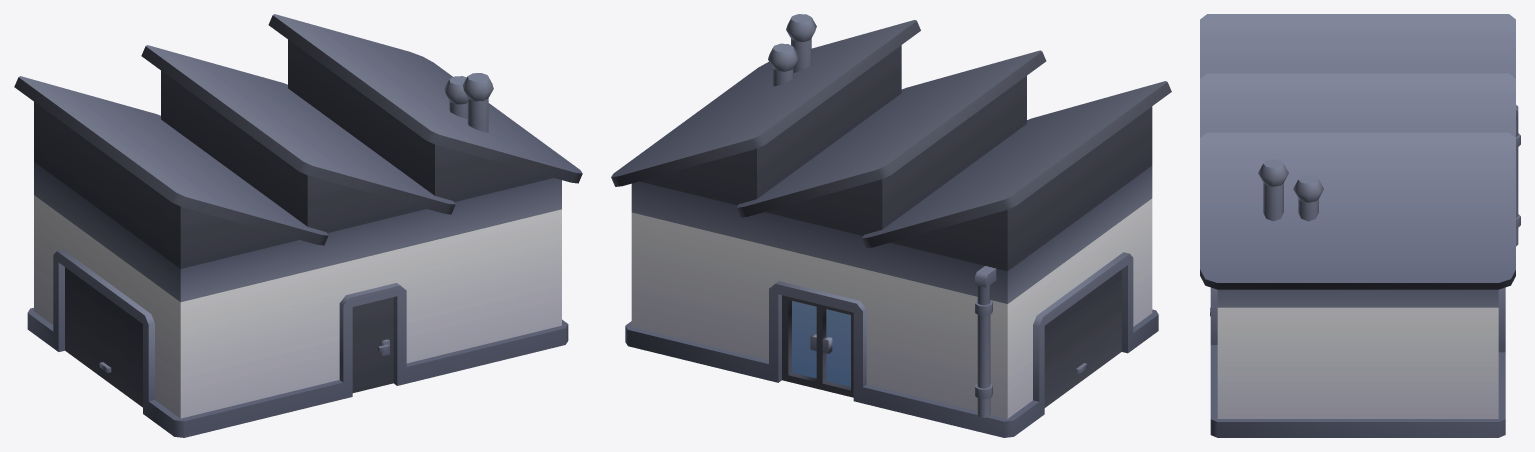
File: building-k.glb
The picture shows the model from 3 angles, left to right: view 1: azimuth 30°, elevation 25°; view 2: azimuth 150°, elevation 25°; view 3: azimuth 270°, elevation 25°; orthographic projection. The views are drawn at different scales.
Parts seen in each view (by area): view 1: building-k; view 2: building-k; view 3: building-k.
Boxes of the visible parts, left/top/right/bottom form: building-k: left=14, top=14, right=582, bottom=437; building-k: left=611, top=14, right=1171, bottom=437; building-k: left=1200, top=14, right=1520, bottom=437.
Size of the model in its own units: 1.3 by 0.7727 by 0.9136.
Materials: 1 (1 with a texture image).
